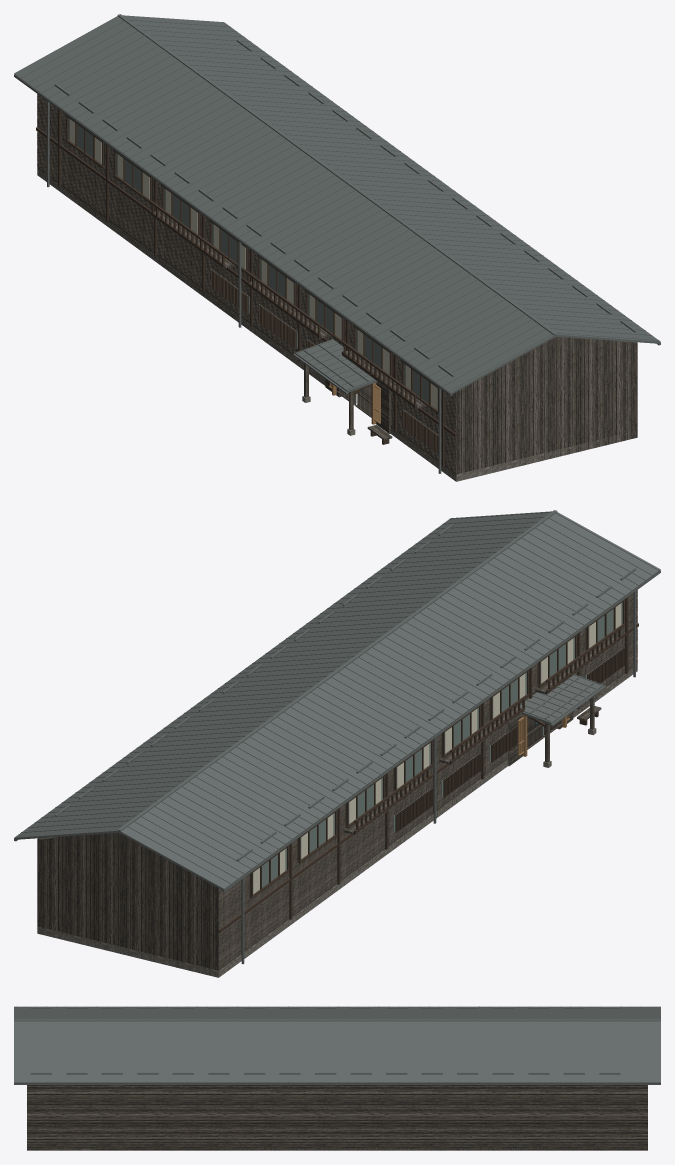
Rendered from onsen-v3.glb.
3 renders of one model, top to bottom at view 1: azimuth 30°, elevation 25°; view 2: azimuth 150°, elevation 25°; view 3: azimuth 270°, elevation 25°, orthographic. The views are drawn at different scales.
Visible parts, largest first — view 1: onsen_Onsen weathered sheet metal.006, onsen_Onsen horizontal cedar.006, onsen_Dark structural timber.024, onsen_Foundation granite.024, onsen_Onsen smoked window glass.006, onsen_Onsen warm inner curtains.006; view 2: onsen_Onsen weathered sheet metal.006, onsen_Onsen horizontal cedar.006, onsen_Dark structural timber.024, onsen_Foundation granite.024, onsen_Onsen smoked window glass.006, onsen_Onsen warm inner curtains.006; view 3: onsen_Onsen weathered sheet metal.006, onsen_Onsen horizontal cedar.006, onsen_Foundation granite.024.
Boxes of the visible parts, box(x1,y1,x2,y2) form: onsen_Onsen weathered sheet metal.006: box(14, 14, 660, 473); onsen_Onsen horizontal cedar.006: box(37, 94, 637, 480); onsen_Dark structural timber.024: box(36, 109, 457, 466); onsen_Foundation granite.024: box(37, 168, 628, 481); onsen_Onsen smoked window glass.006: box(68, 118, 438, 435); onsen_Onsen warm inner curtains.006: box(69, 119, 437, 409); onsen_Onsen weathered sheet metal.006: box(14, 510, 660, 964); onsen_Onsen horizontal cedar.006: box(37, 590, 637, 977); onsen_Dark structural timber.024: box(217, 597, 638, 954); onsen_Foundation granite.024: box(37, 664, 637, 977); onsen_Onsen smoked window glass.006: box(253, 602, 622, 894); onsen_Onsen warm inner curtains.006: box(253, 603, 621, 893); onsen_Onsen weathered sheet metal.006: box(14, 1006, 660, 1084); onsen_Onsen horizontal cedar.006: box(27, 1085, 647, 1150); onsen_Foundation granite.024: box(27, 1145, 647, 1150).
Bounding box in the file's own units: 16.98 × 9.12 × 54.61.
10 materials, 2 textured.
